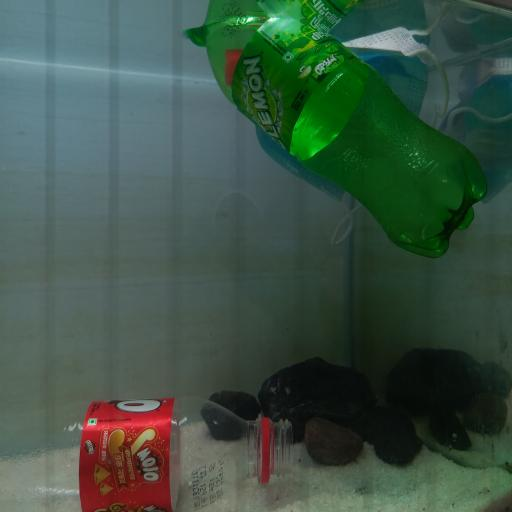mask: (258, 28, 454, 246)
plastic_bottle: (188, 12, 489, 260), (0, 397, 294, 512)
